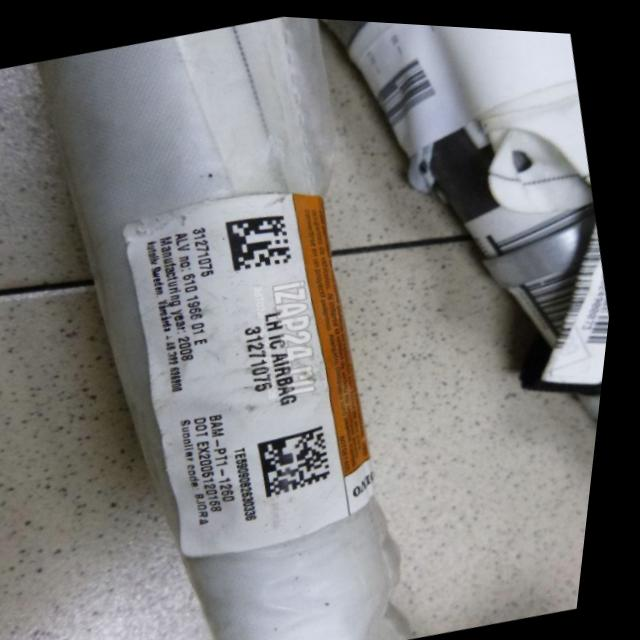datamatrix: (225, 206, 302, 274)
